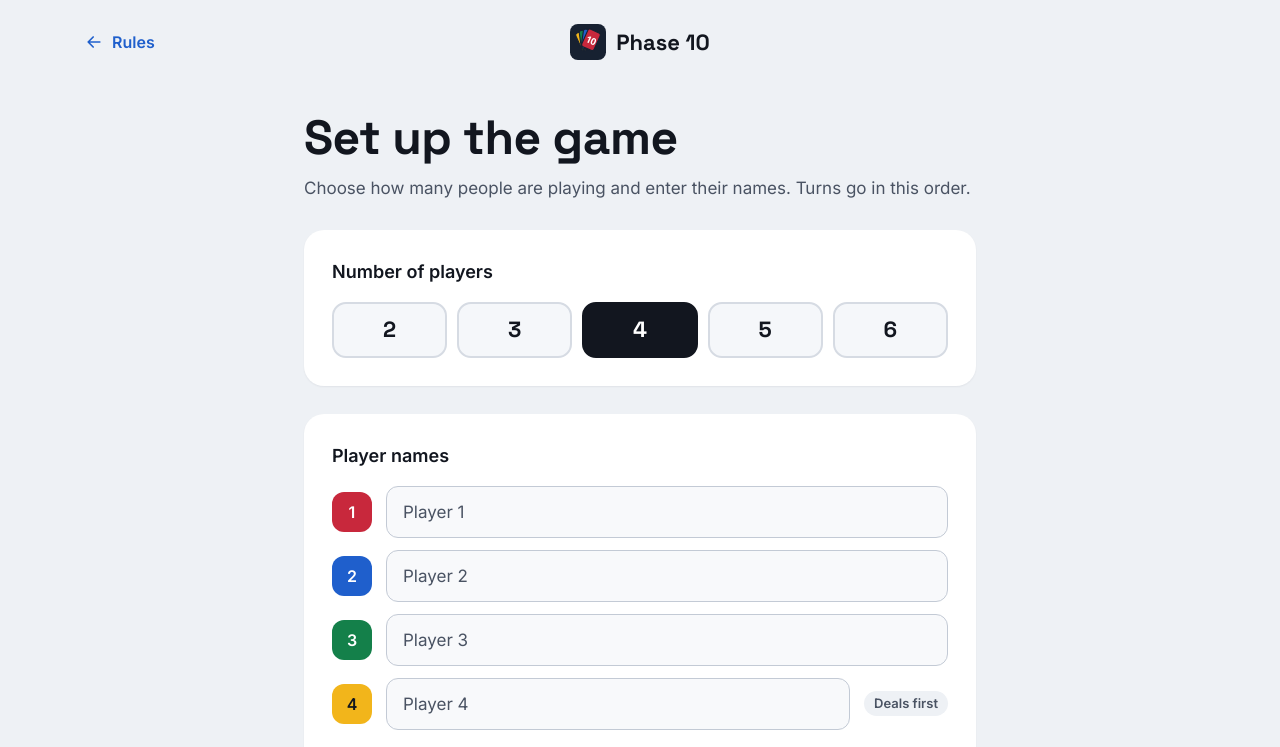
Test case: SetupPage › shows one name input per player
Check: the number of fields is 4, box [386,486,948,538]; [386,550,948,602]; [386,614,948,666]; [386,678,850,730]
Click the button "3" at (515, 330), box [457,302,572,358]
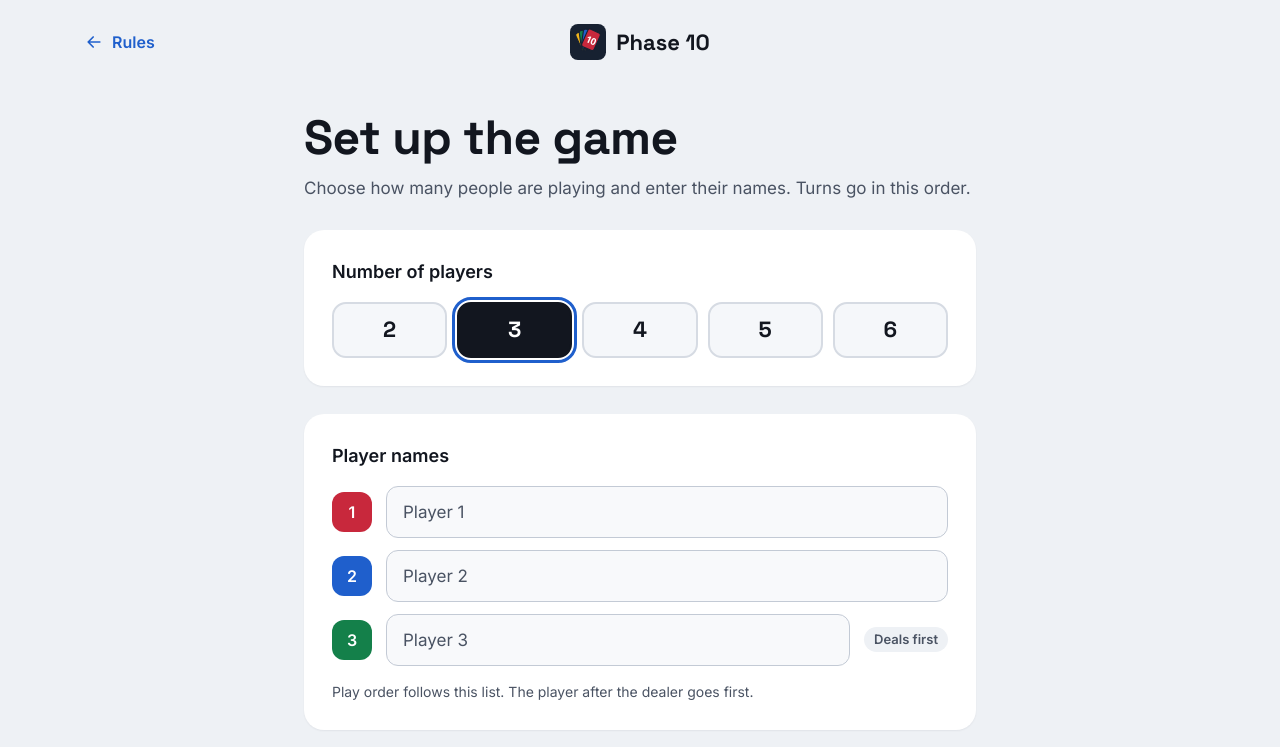
Check: the number of fields is 3, box [386,486,948,538]; [386,550,948,602]; [386,614,850,666]
